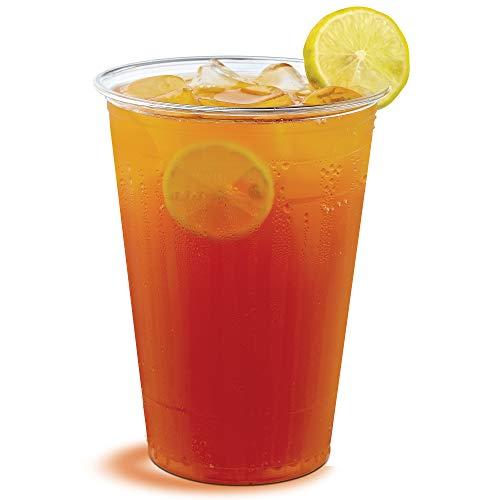plastic_glass: (86, 49, 399, 499)
